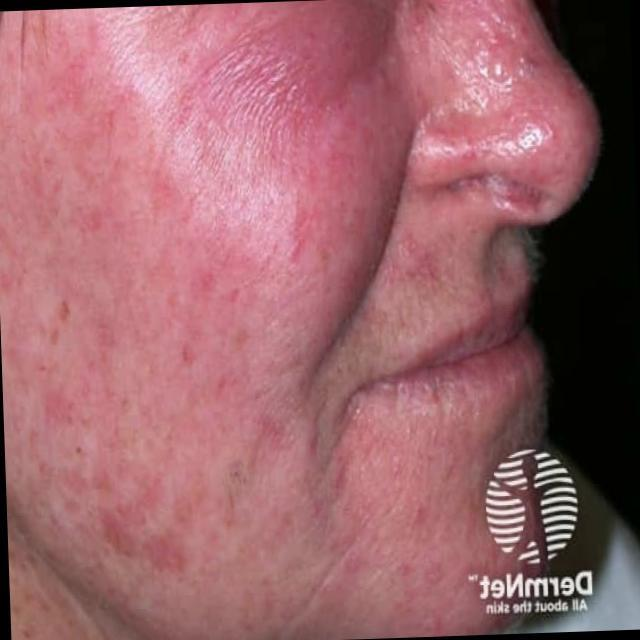Eczema: (27, 35, 369, 567)
